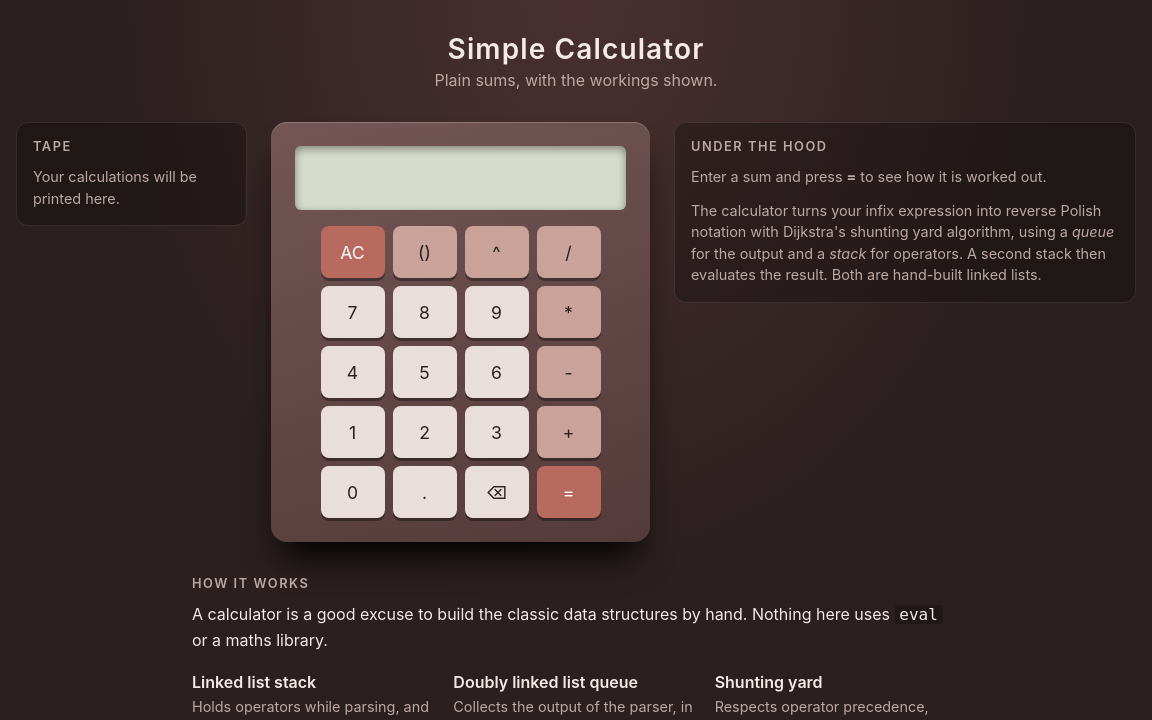
enters an expression and displays its result
Click the button "2" at (424, 432), box 392,406 -> 456,458
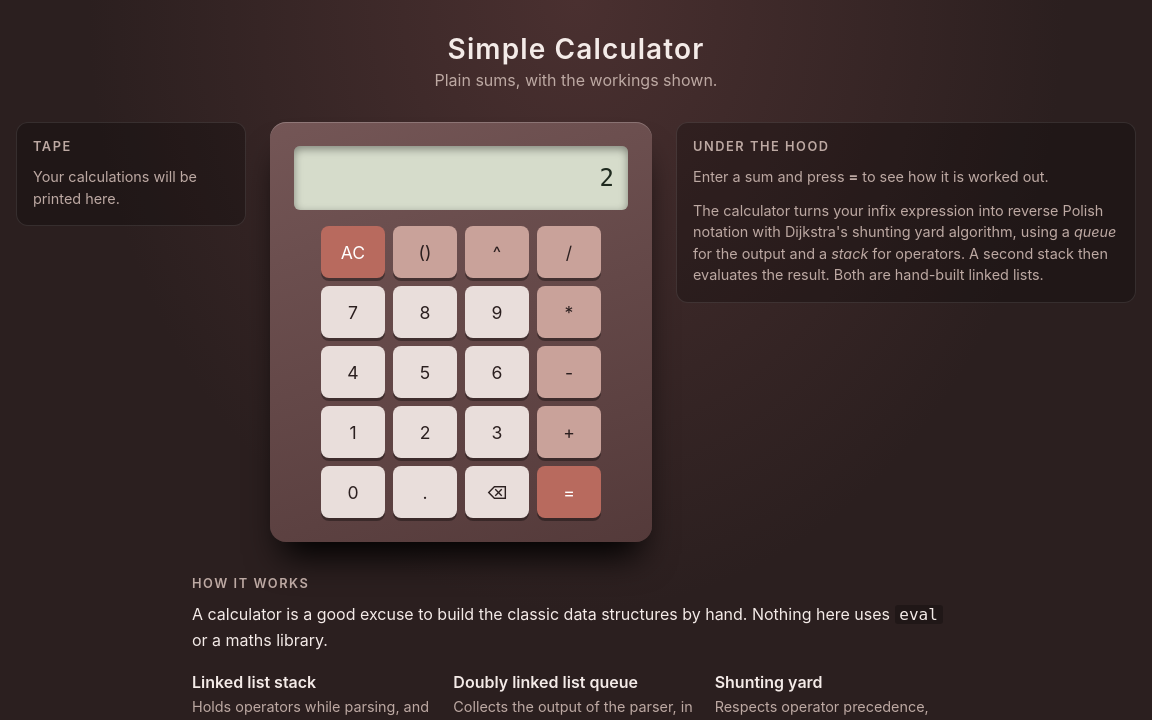
Click the button "+" at (569, 432), box 537,406 -> 601,458
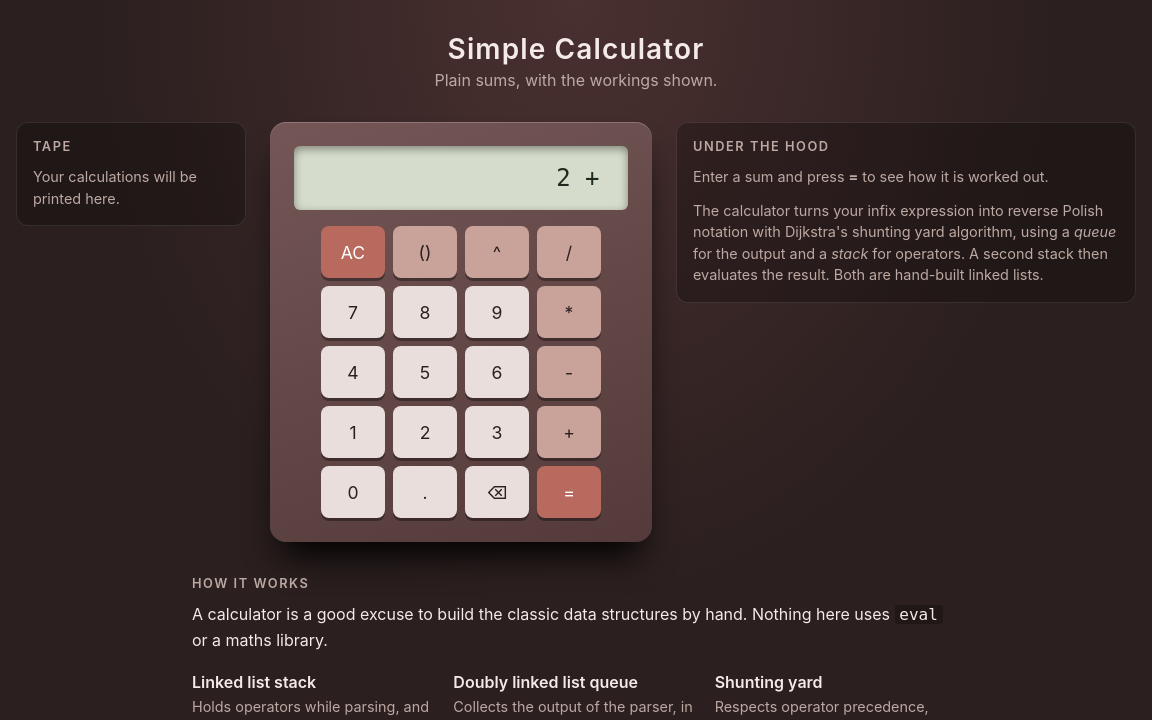
Click the button "3" at (497, 432), box 465,406 -> 529,458
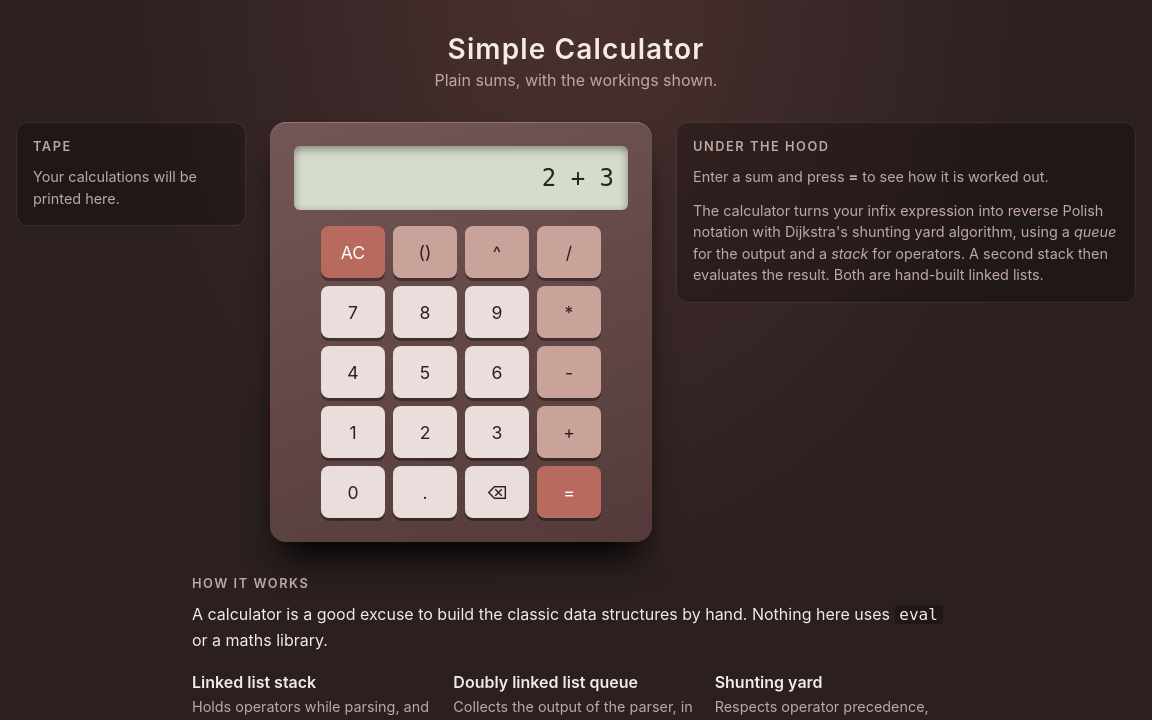
Expected: the field with id "display" holds "2 + 3", 294,146 -> 628,210
Click the button "=" at (569, 492), box 537,466 -> 601,518
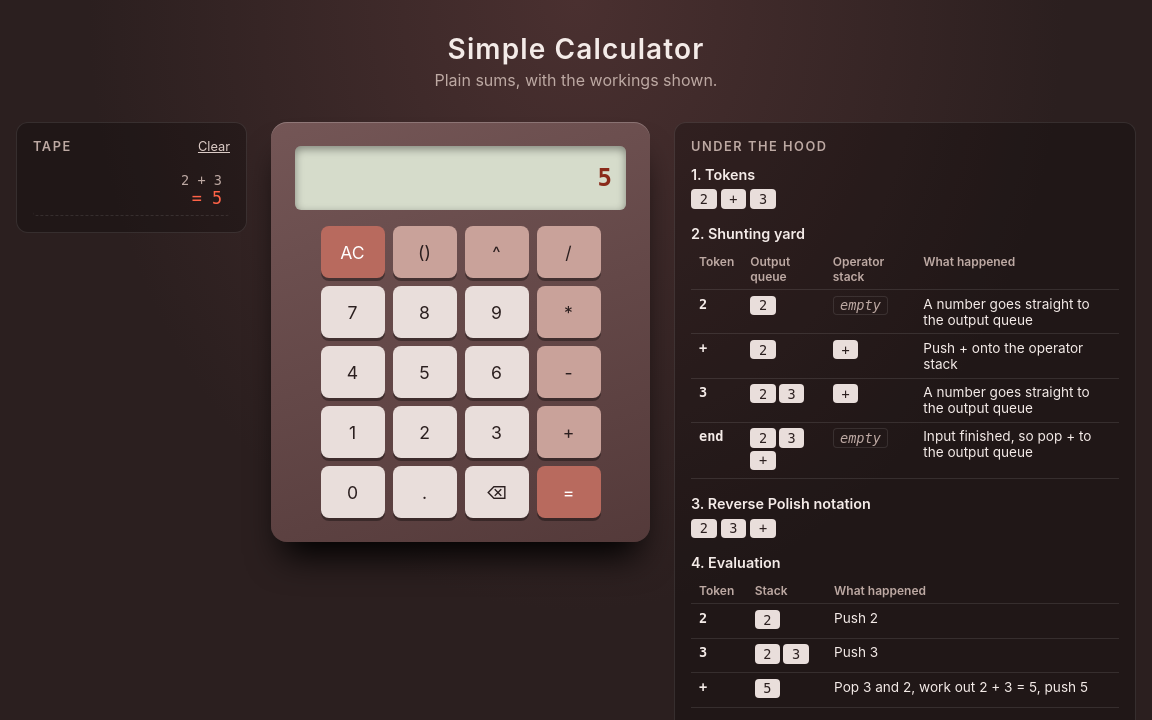
Expected: the field with id "display" holds "5", 295,146 -> 626,210
